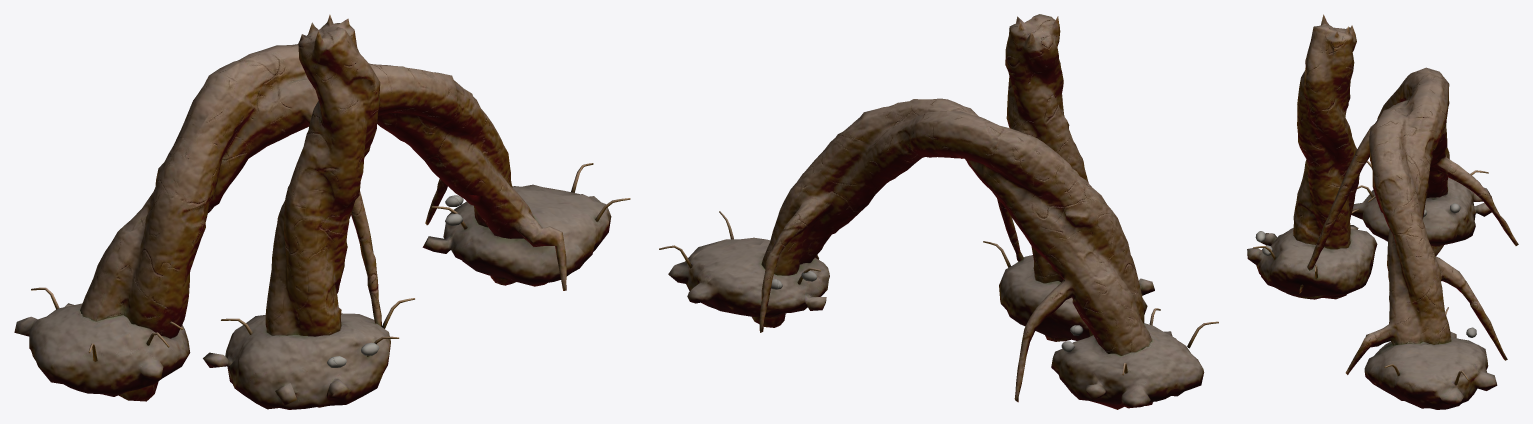
The picture shows the model from 3 angles, left to right: view 1: azimuth 30°, elevation 25°; view 2: azimuth 150°, elevation 25°; view 3: azimuth 270°, elevation 25°; orthographic projection. The views are drawn at different scales.
Parts seen in each view (by area): view 1: bark, soil, rootlets, rock; view 2: bark, soil, rootlets; view 3: bark, soil, rootlets, rock.
Boxes of the visible parts, bbox=[...] form: bark: bbox=[80, 14, 566, 407]; soil: bbox=[14, 184, 611, 409]; rootlets: bbox=[31, 163, 630, 361]; rock: bbox=[327, 195, 463, 367]; bark: bbox=[752, 14, 1153, 409]; soil: bbox=[668, 237, 1204, 407]; rootlets: bbox=[659, 211, 1218, 375]; bark: bbox=[1293, 14, 1518, 374]; soil: bbox=[1247, 177, 1497, 409]; rootlets: bbox=[1253, 161, 1488, 385]; rock: bbox=[1255, 203, 1476, 337].
Size of the model in its own units: 2.2 by 1.34 by 1.13.
Materials: 4 (4 with a texture image).
